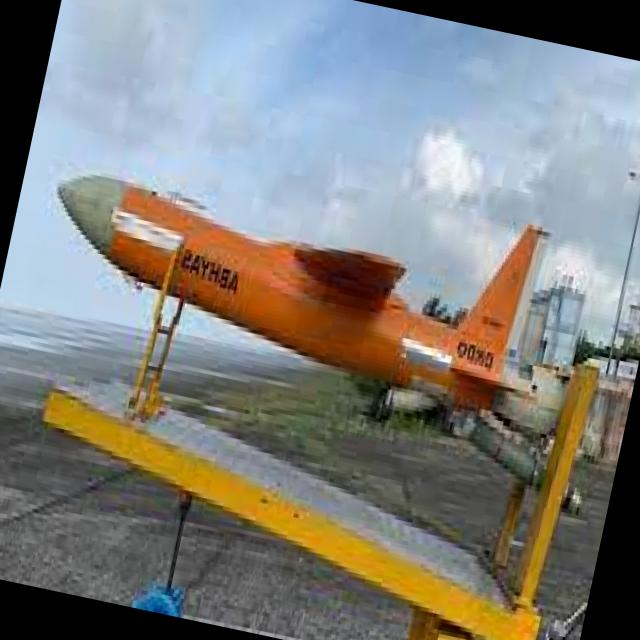rocket: (16, 120, 602, 497)
